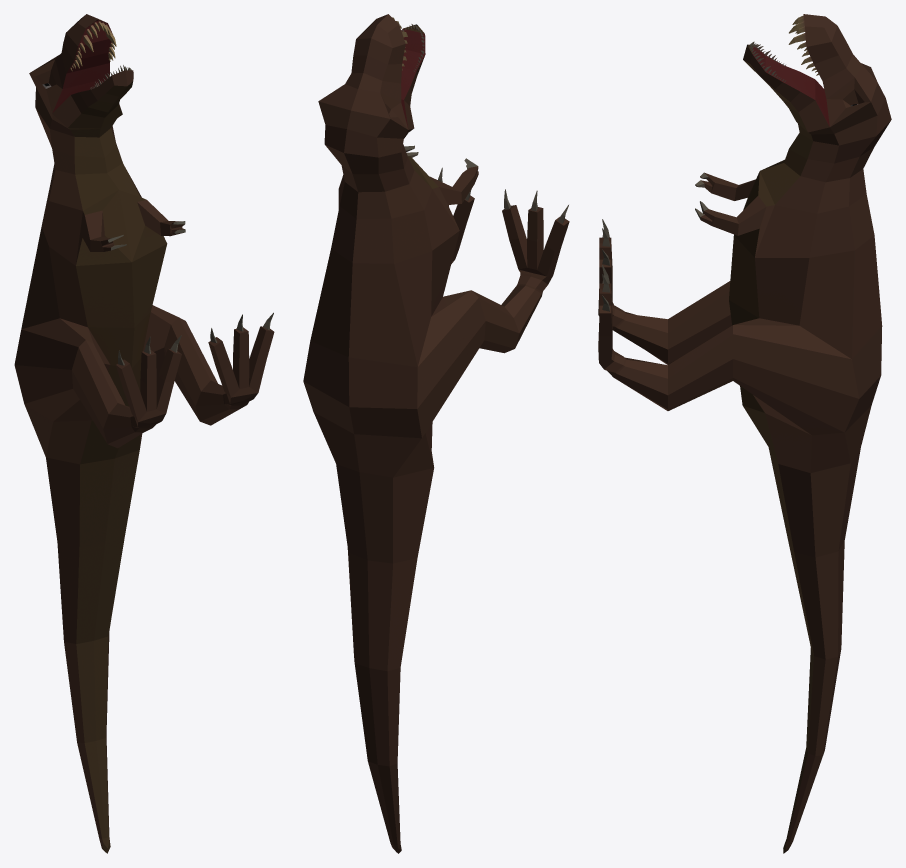
File: Tyrannosaurus.fbx
The picture shows the model from 3 angles, left to right: view 1: azimuth 30°, elevation 25°; view 2: azimuth 150°, elevation 25°; view 3: azimuth 270°, elevation 25°; orthographic projection. The views are drawn at different scales.
Parts seen in each view (by area): view 1: Tyrannosaurus; view 2: Tyrannosaurus; view 3: Tyrannosaurus.
Part boxes in pixels (box(x1,y1,x2,y2)): Tyrannosaurus: box(14, 14, 274, 853); Tyrannosaurus: box(303, 14, 569, 853); Tyrannosaurus: box(598, 14, 891, 853).
Size of the model in its own units: 91.29 by 465 by 147.
